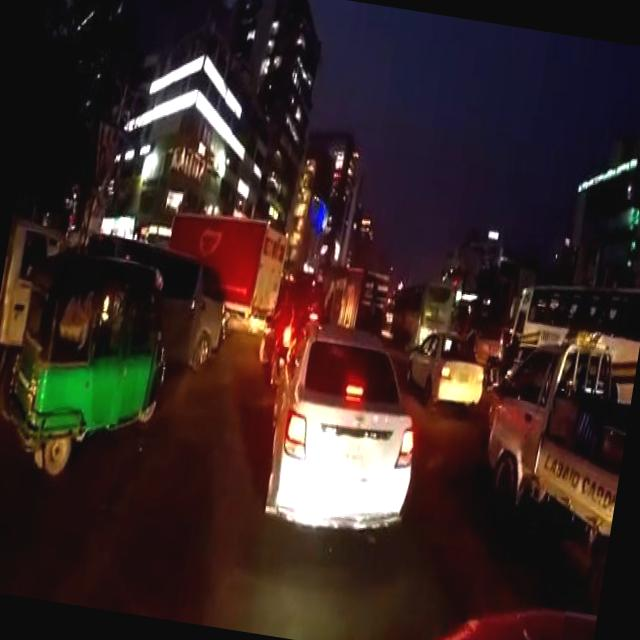bus: (499, 268, 640, 403), (388, 274, 456, 342)
car: (253, 313, 433, 542), (413, 580, 597, 640), (400, 322, 490, 406)
motorcycle: (0, 246, 181, 487)
truck: (470, 326, 638, 538), (70, 230, 232, 368), (157, 203, 290, 325), (0, 218, 68, 426)
